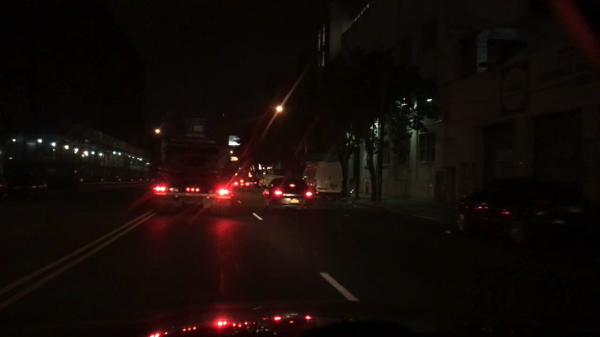car: (452, 180, 598, 245), (1, 157, 46, 202), (263, 178, 313, 214), (303, 162, 343, 202), (258, 169, 284, 191), (234, 176, 249, 191), (247, 175, 258, 188)
person: (365, 179, 369, 197)
truck: (147, 115, 235, 216)
